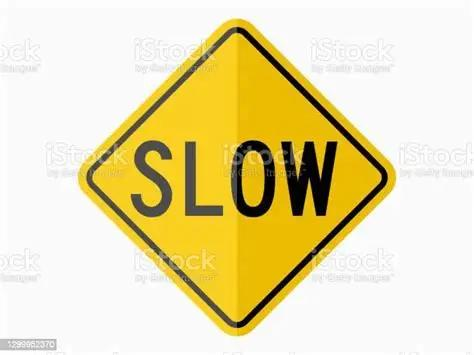Slow: (81, 21, 393, 330)
